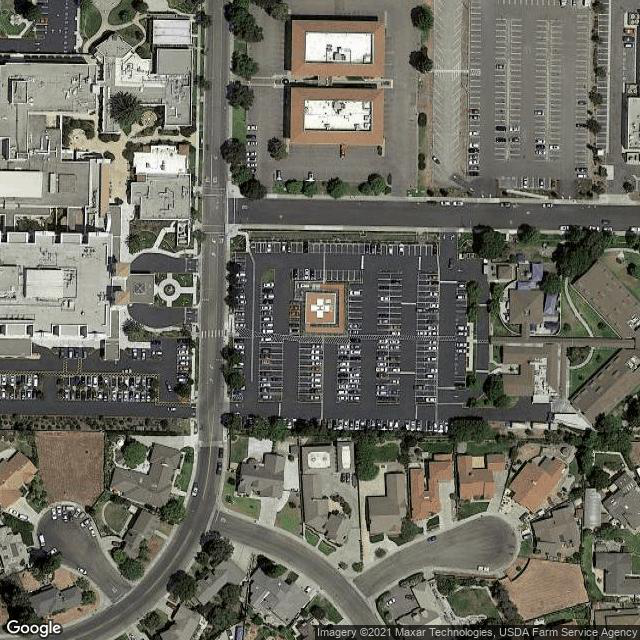Helipad: (304, 291, 337, 321)
